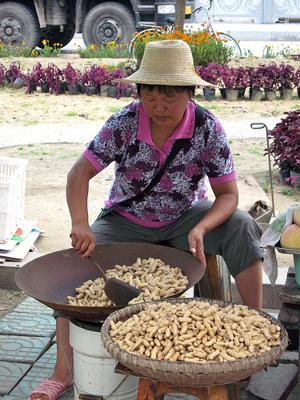person: (25, 41, 264, 400)
